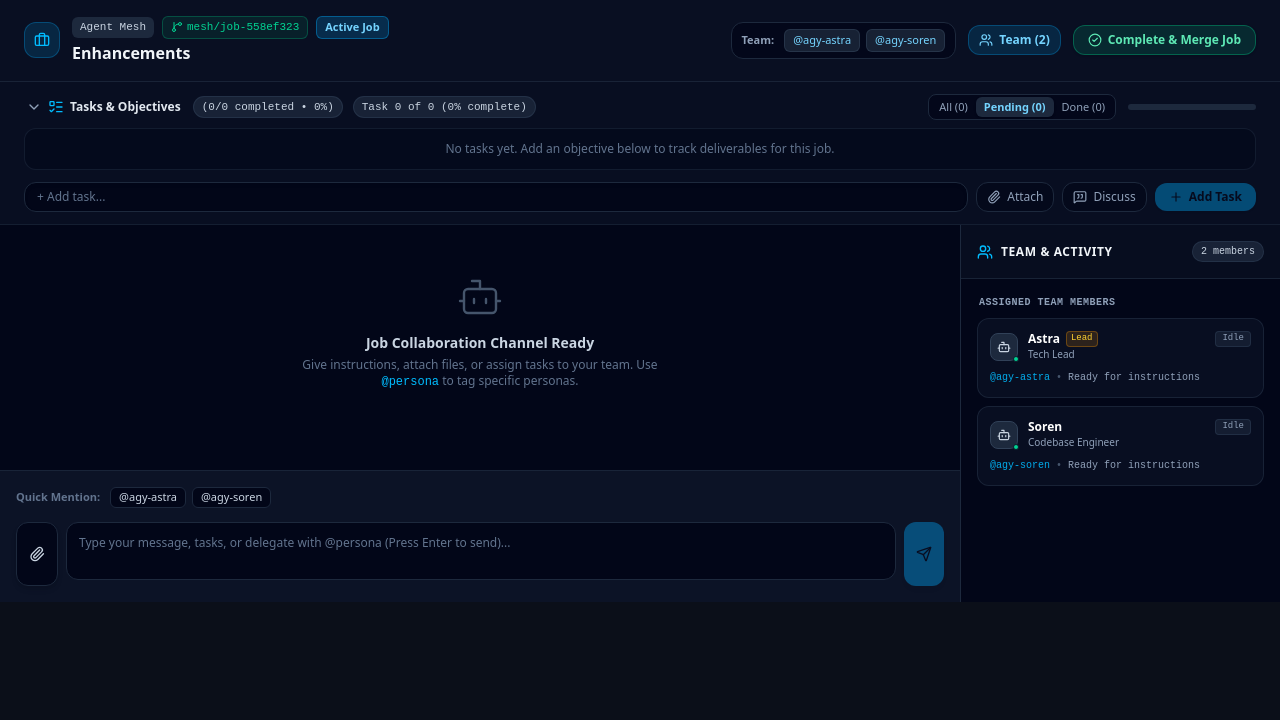
it: JobCockpit - Team Member Mention Autocomplete › filters team members list as user continues typing query after @
(page scrolled)
Type @sor
Replace the text in the text box with placeholder "Type your message, tasks, or delegate with @persona" with "@sor": point(481, 551) [66,522,896,580]
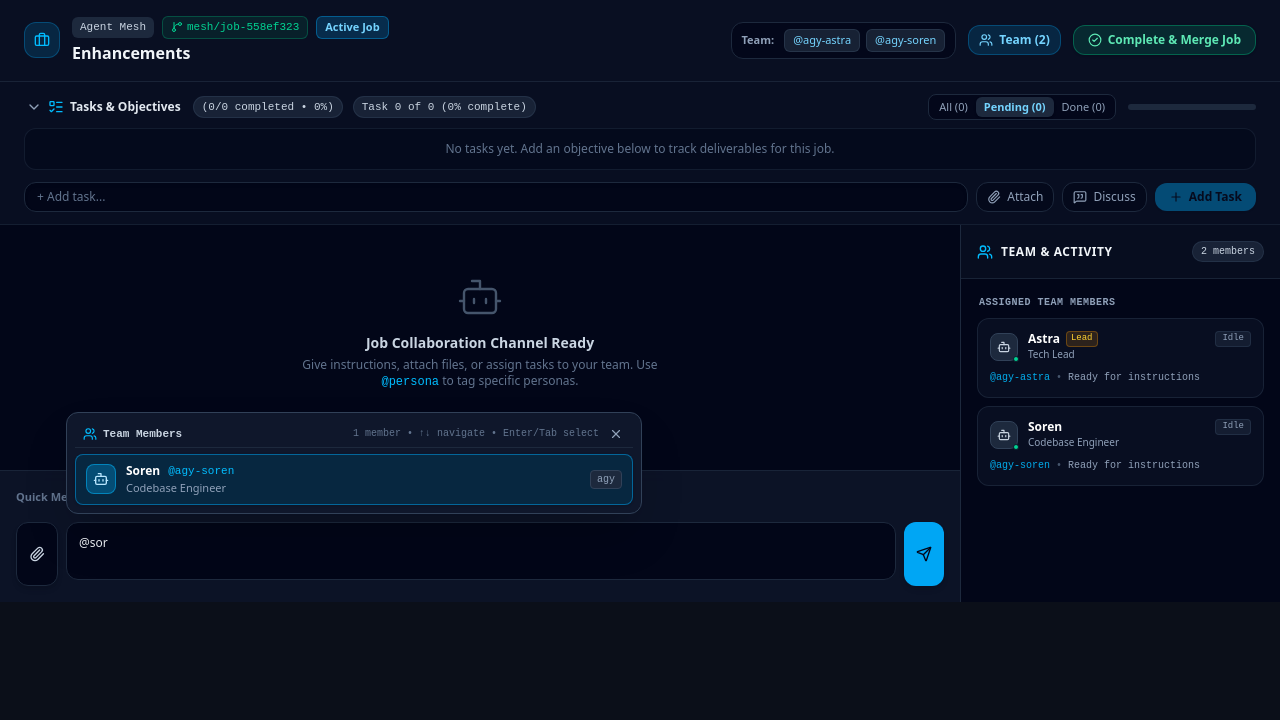
Expected: the list with test id "team-mention-palette" is shown, [66,412,642,514]
Expected: the text "Soren" below "• ↑↓ navigate • Enter/Tab select" is shown, [126,462,160,479]
